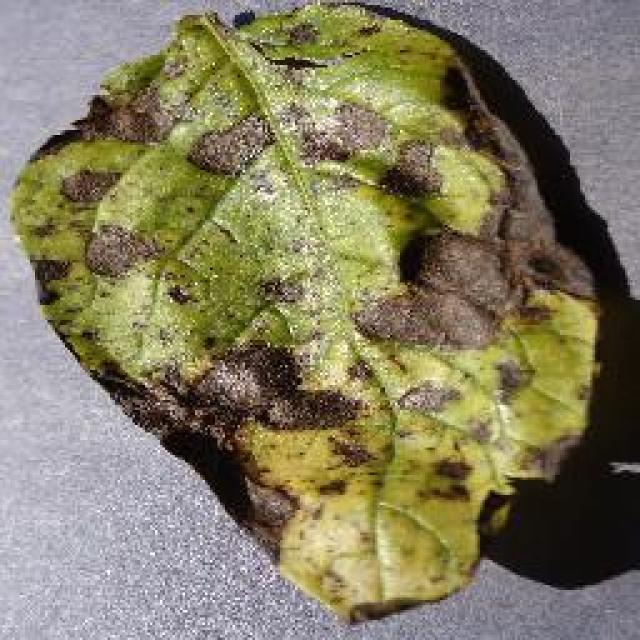Potato___Early_blight: (2, 0, 599, 624)
